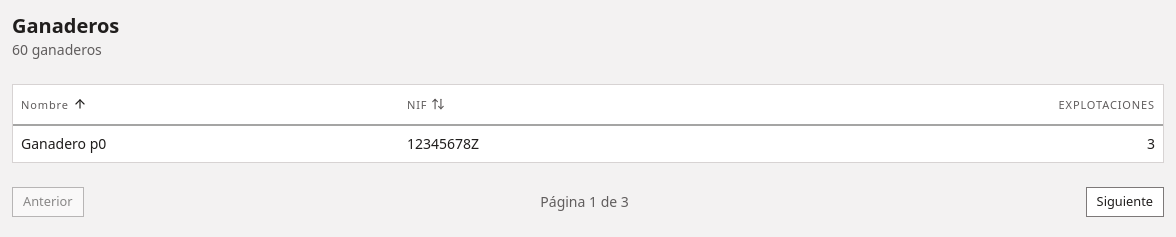
Test case: GanaderosPage: ordenación accesible › cambiar el orden vuelve a la primera página
Expected: the link "Ganadero p0" is shown, [21, 134, 106, 153]
Click the button "Siguiente".
click(1125, 202)  # box [1086, 187, 1164, 217]
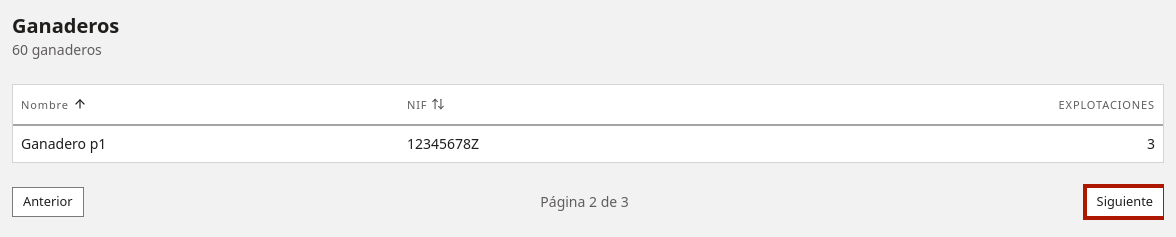
Expected: the link "Ganadero p1" is shown, [21, 134, 106, 153]
Expected: the text "Página 2 de 3" is shown, [540, 192, 629, 212]
Click the button "NIF".
click(426, 104)  # box [403, 95, 450, 114]
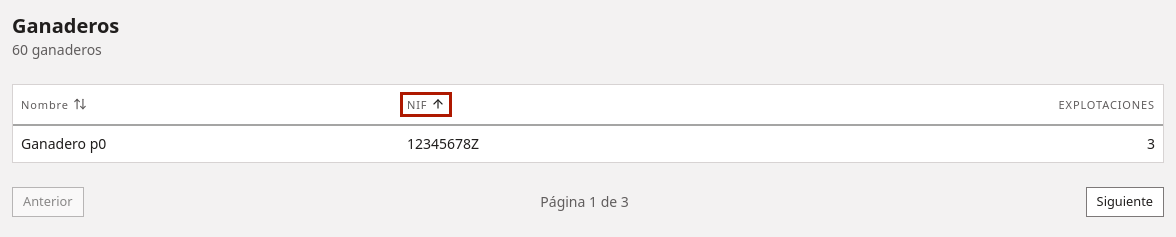
Expected: the link "Ganadero p0" is shown, [21, 134, 106, 153]
Expected: the text "Página 1 de 3" is shown, [540, 192, 629, 212]
